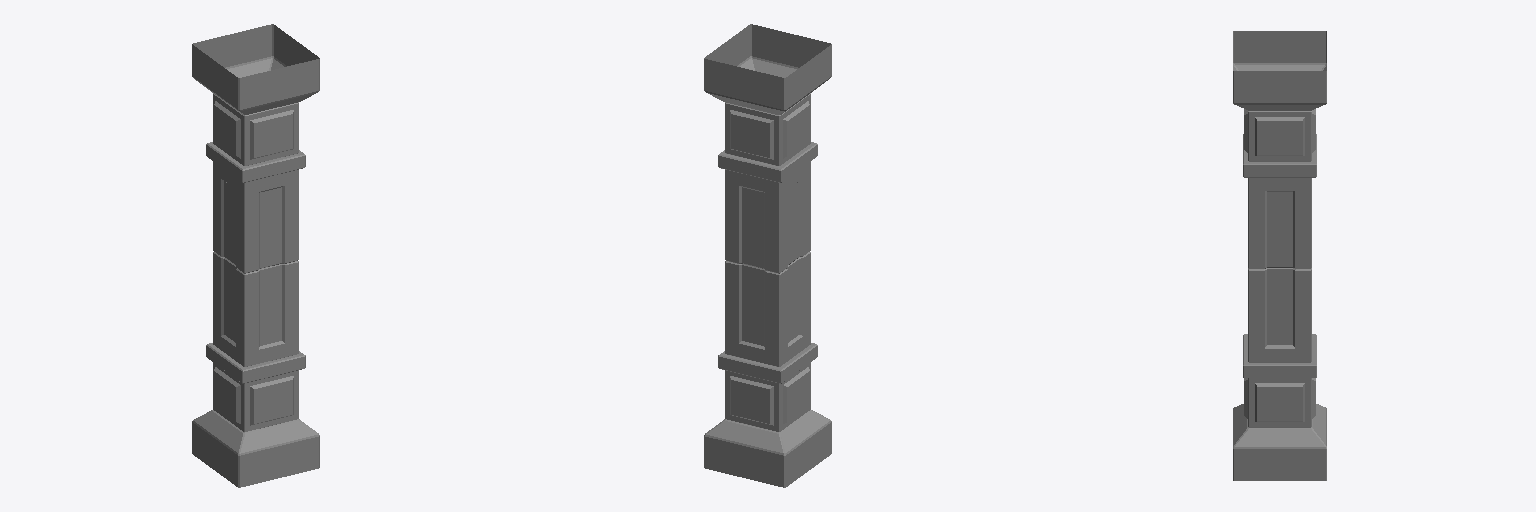
The model's file is Asset_Stonepillar.obj.
The picture shows the model from 3 angles: view 1: azimuth 30°, elevation 25°; view 2: azimuth 150°, elevation 25°; view 3: azimuth 270°, elevation 25°; orthographic projection.
Visible parts, largest first — view 1: Object002, Object003; view 2: Object002, Object003; view 3: Object002, Object003.
Boxes of the visible parts, x1,y1,x2,y2 form: Object002: [192, 24, 319, 431]; Object003: [192, 93, 319, 487]; Object002: [704, 24, 831, 431]; Object003: [704, 93, 831, 487]; Object002: [1233, 31, 1326, 427]; Object003: [1233, 109, 1326, 480].
Bounding box in the file's own units: 80.01 × 383 × 80.01.